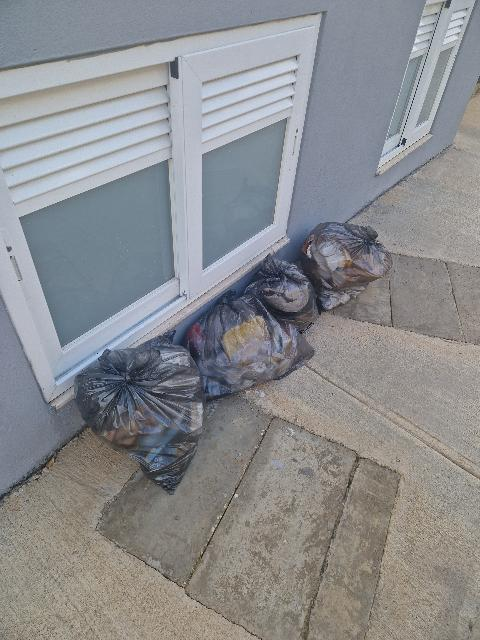Recyclable -Grey-: (75, 336, 205, 494), (185, 291, 312, 398), (300, 222, 392, 310), (245, 254, 316, 333)
